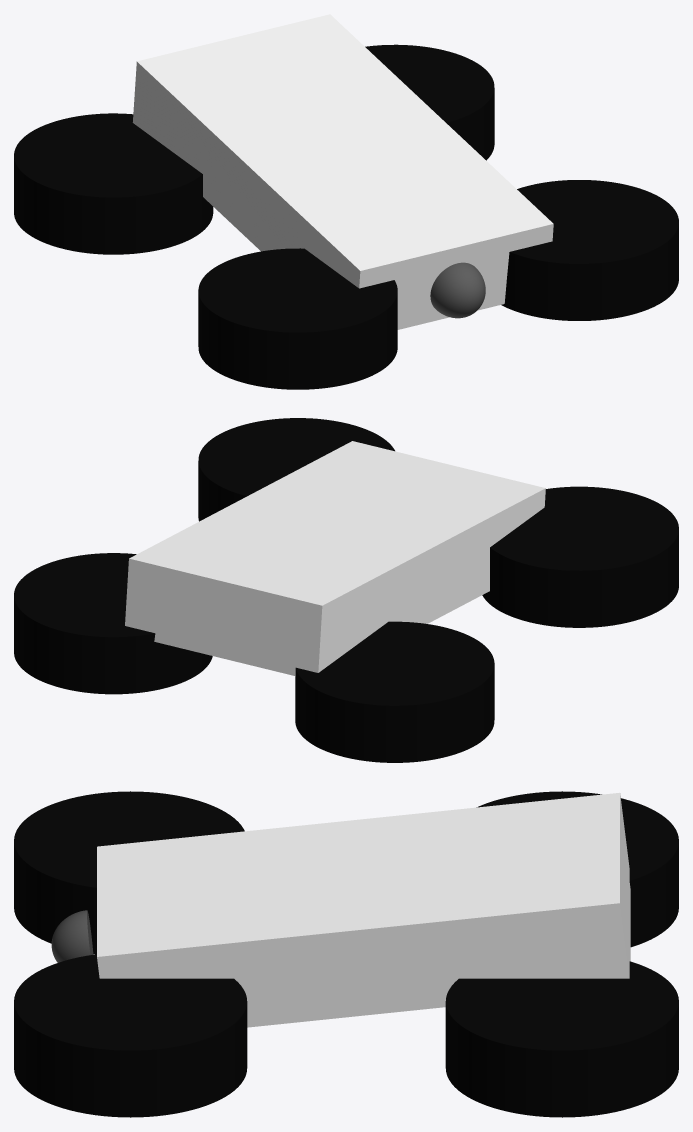
The model's file is Drone.glb.
3 views of the same model, one above another, from view 1: azimuth 30°, elevation 25°; view 2: azimuth 150°, elevation 25°; view 3: azimuth 270°, elevation 25° (orthographic). The views are drawn at different scales.
Parts seen in each view (by area): view 1: mesh_id70, mesh_id42, mesh_id94, mesh_id65, mesh_id95, mesh_id110; view 2: mesh_id70, mesh_id94, mesh_id42, mesh_id95, mesh_id65; view 3: mesh_id70, mesh_id65, mesh_id95, mesh_id42, mesh_id94, mesh_id110.
Boxes of the visible parts, x1=… form: mesh_id70: x1=132, y1=14, x2=553, y2=329; mesh_id42: x1=198, y1=248, x2=397, y2=389; mesh_id94: x1=14, y1=113, x2=213, y2=254; mesh_id65: x1=501, y1=180, x2=678, y2=320; mesh_id95: x1=365, y1=44, x2=494, y2=160; mesh_id110: x1=430, y1=262, x2=485, y2=318; mesh_id70: x1=125, y1=441, x2=545, y2=675; mesh_id94: x1=295, y1=621, x2=494, y2=762; mesh_id42: x1=482, y1=486, x2=678, y2=627; mesh_id95: x1=14, y1=553, x2=212, y2=694; mesh_id65: x1=198, y1=418, x2=394, y2=521; mesh_id70: x1=97, y1=792, x2=630, y2=1027; mesh_id65: x1=14, y1=954, x2=247, y2=1117; mesh_id95: x1=445, y1=961, x2=678, y2=1117; mesh_id42: x1=14, y1=791, x2=244, y2=954; mesh_id94: x1=476, y1=791, x2=678, y2=947; mesh_id110: x1=51, y1=910, x2=93, y2=962.
Size of the model in its own units: 0.4293 by 0.1098 by 0.4654.
4 materials, 4 textured.
